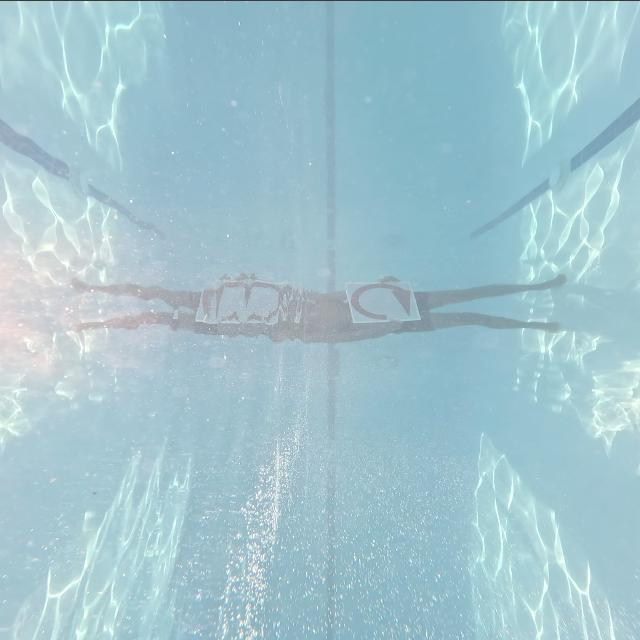red_side: (332, 274, 429, 328)
